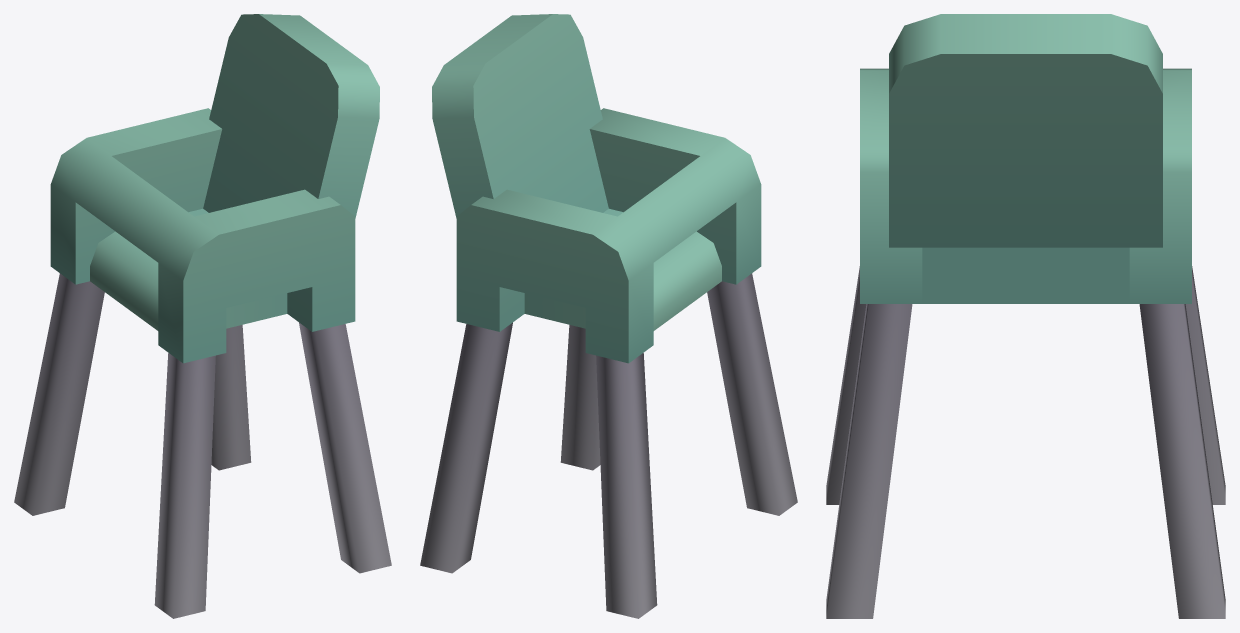
The model's file is chair-childrens.glb.
3 views of the same model, side by side, from view 1: azimuth 30°, elevation 25°; view 2: azimuth 150°, elevation 25°; view 3: azimuth 270°, elevation 25° (orthographic). The views are drawn at different scales.
Parts seen in each view (by area): view 1: chair-childrens; view 2: chair-childrens; view 3: chair-childrens.
Boxes of the visible parts, x1=… form: chair-childrens: x1=14, y1=14, x2=391, y2=618; chair-childrens: x1=420, y1=14, x2=797, y2=618; chair-childrens: x1=826, y1=14, x2=1225, y2=618.
Size of the model in its own units: 0.4195 by 0.7889 by 0.4812.
